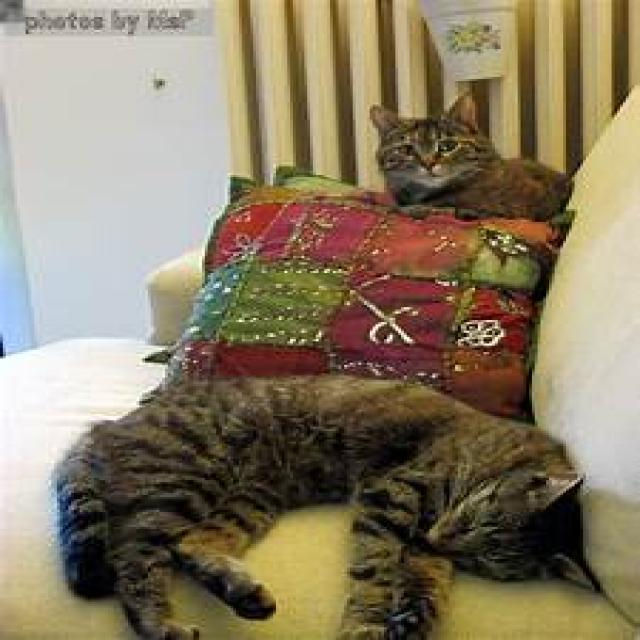cat: (49, 371, 600, 638), (367, 92, 575, 224)
